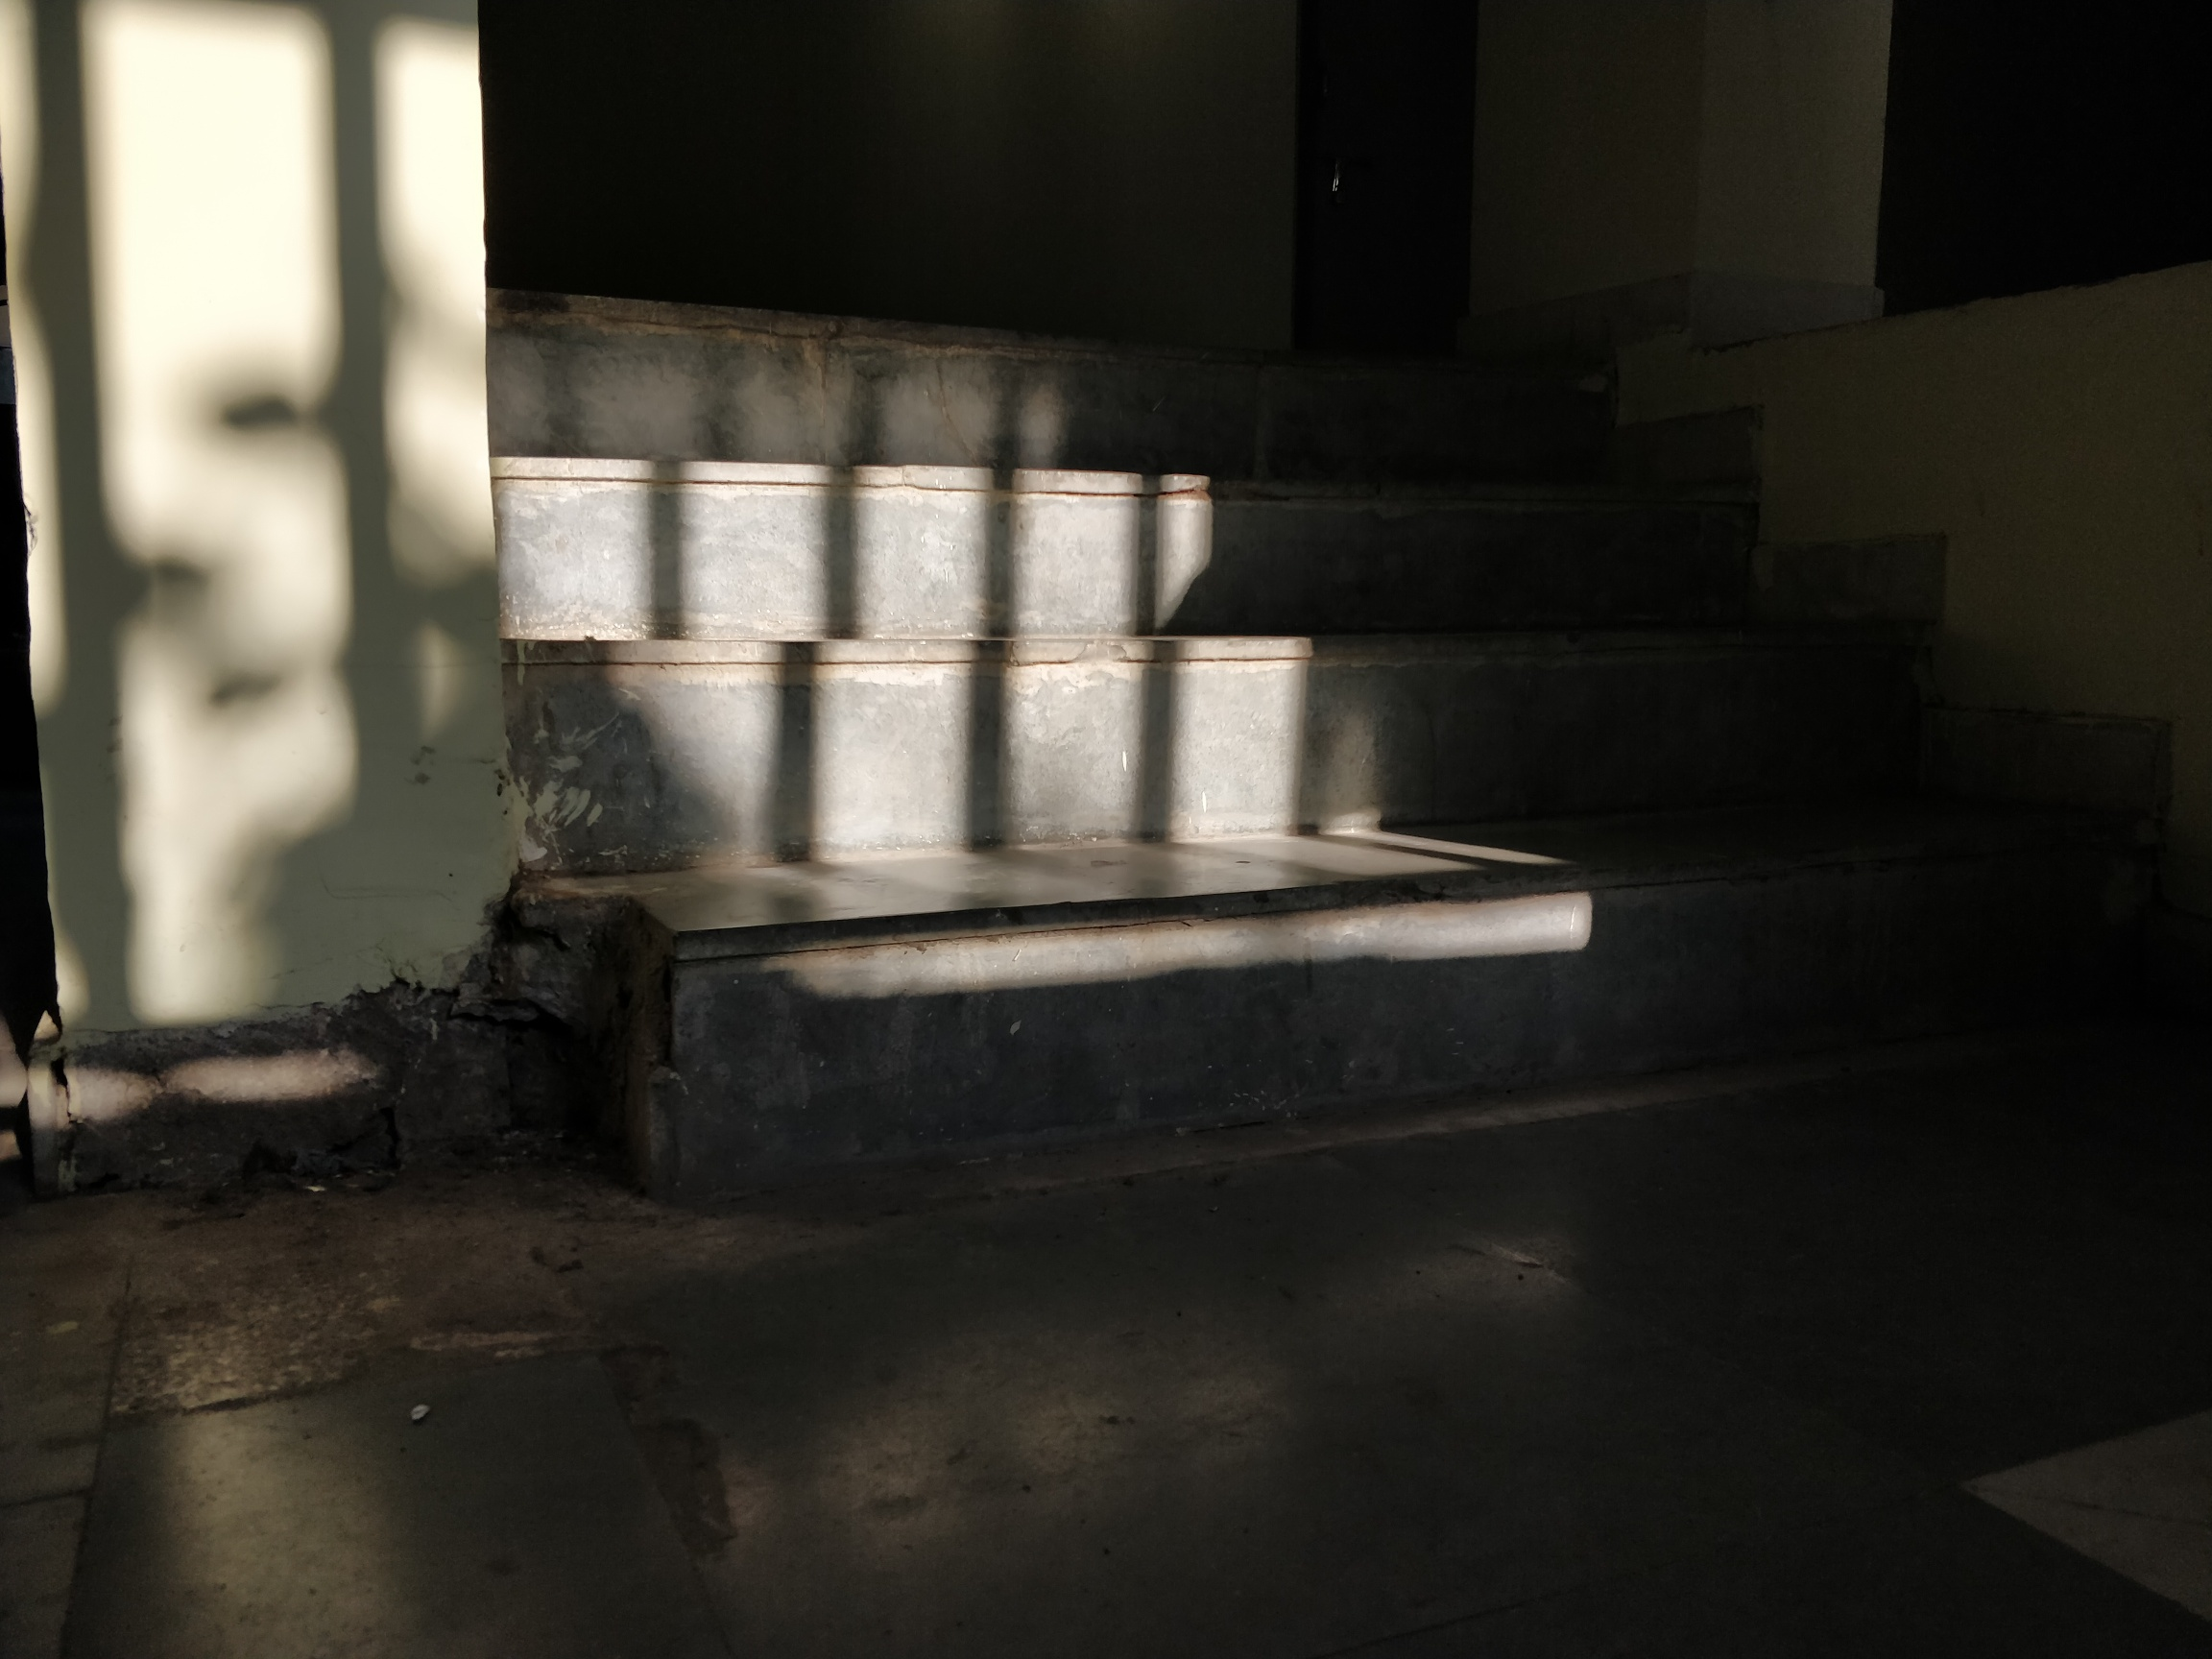stairs_up: (484, 251, 2163, 1148)
